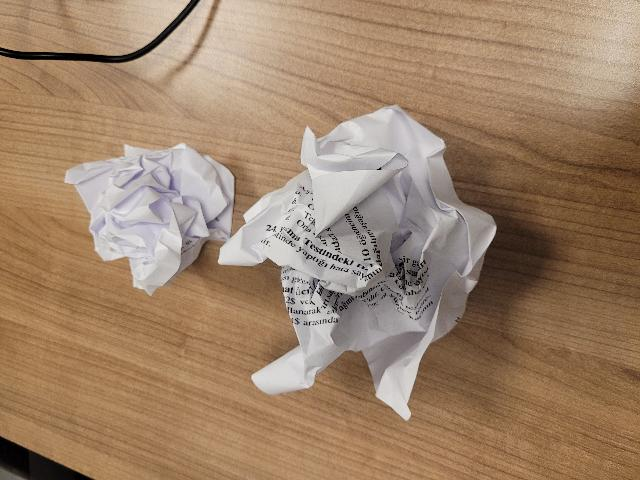Kagit: (216, 108, 505, 420), (63, 141, 237, 296)
